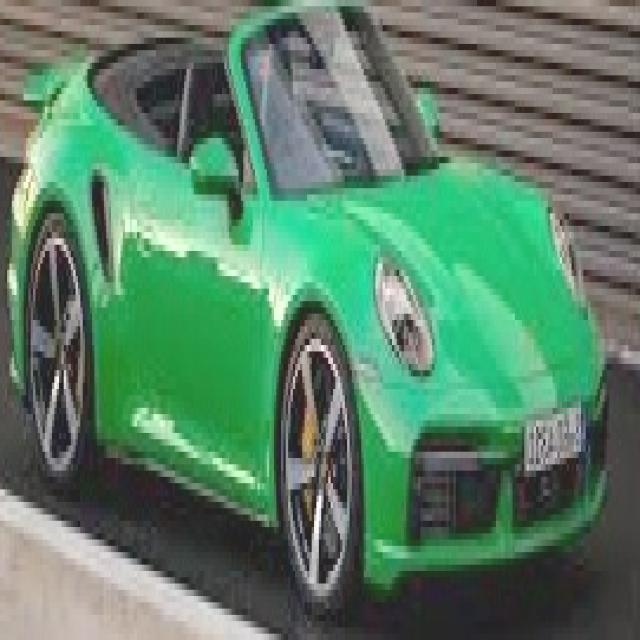green: (6, 0, 613, 602)
